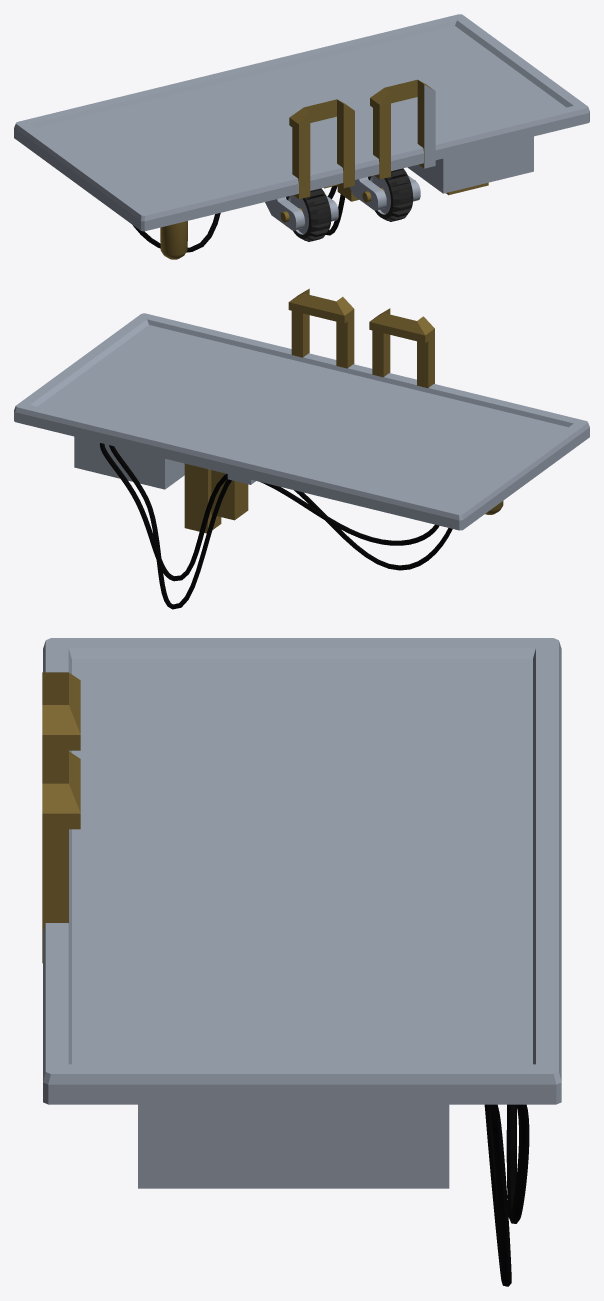
The model's file is lift_item_geometry-panic-factory.fbx.
3 renders of one model, top to bottom at view 1: azimuth 30°, elevation 25°; view 2: azimuth 150°, elevation 25°; view 3: azimuth 270°, elevation 25°, orthographic. The views are drawn at different scales.
Parts seen in each view (by area): view 1: lift_item.geometry-panic-factory; view 2: lift_item.geometry-panic-factory; view 3: lift_item.geometry-panic-factory.
Part boxes in pixels (box(x1,y1,x2,y2)): lift_item.geometry-panic-factory: box(14, 14, 589, 259); lift_item.geometry-panic-factory: box(14, 288, 589, 609); lift_item.geometry-panic-factory: box(42, 638, 561, 1286).
Size of the model in its own units: 2 by 1.03 by 1.
